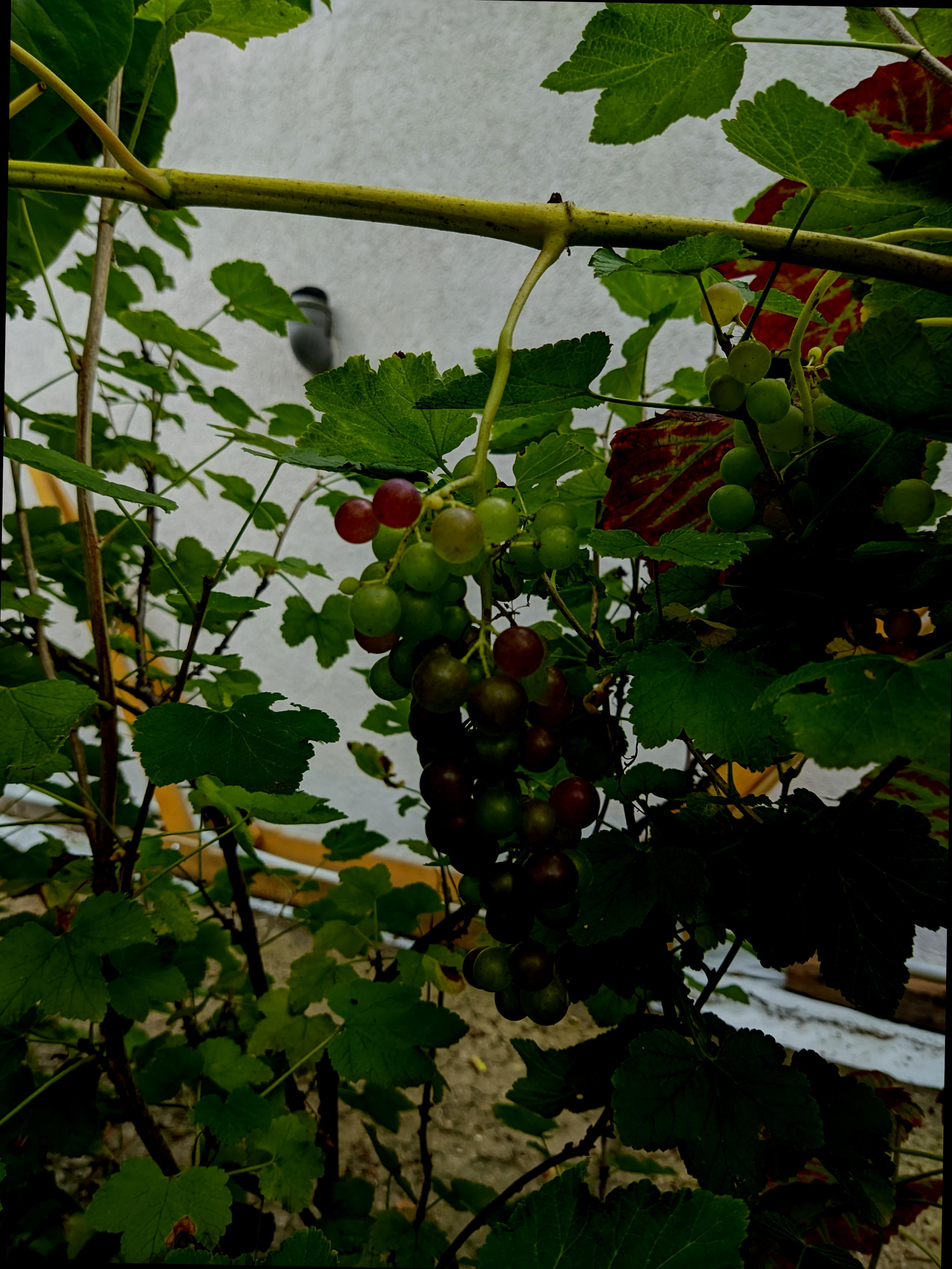Grape Unripe: (334, 438, 624, 1021), (711, 332, 947, 661)
